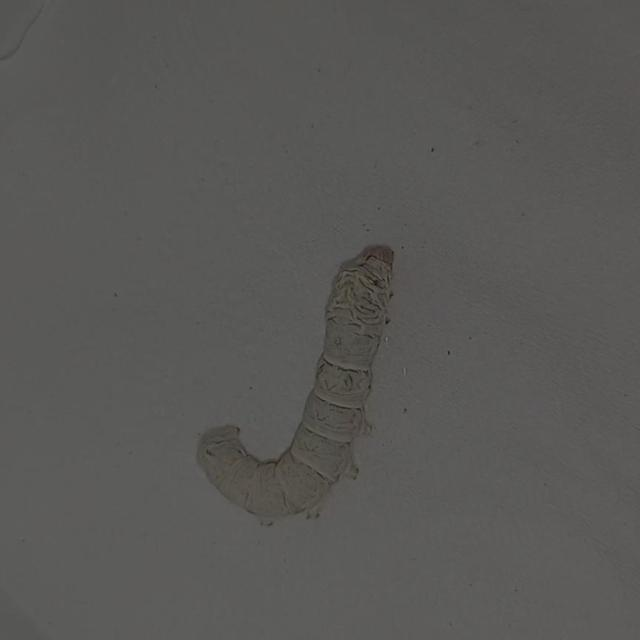Healthy: (186, 241, 405, 528)
